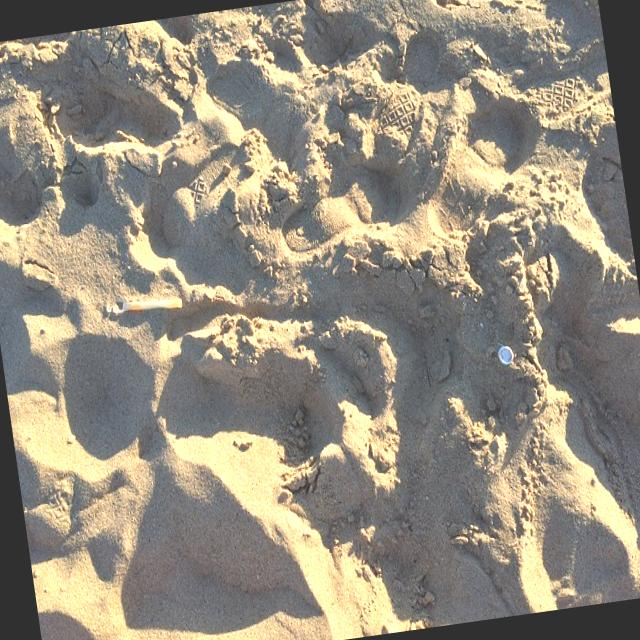Recycle: (497, 342, 516, 368)
Trash: (108, 282, 185, 320)
